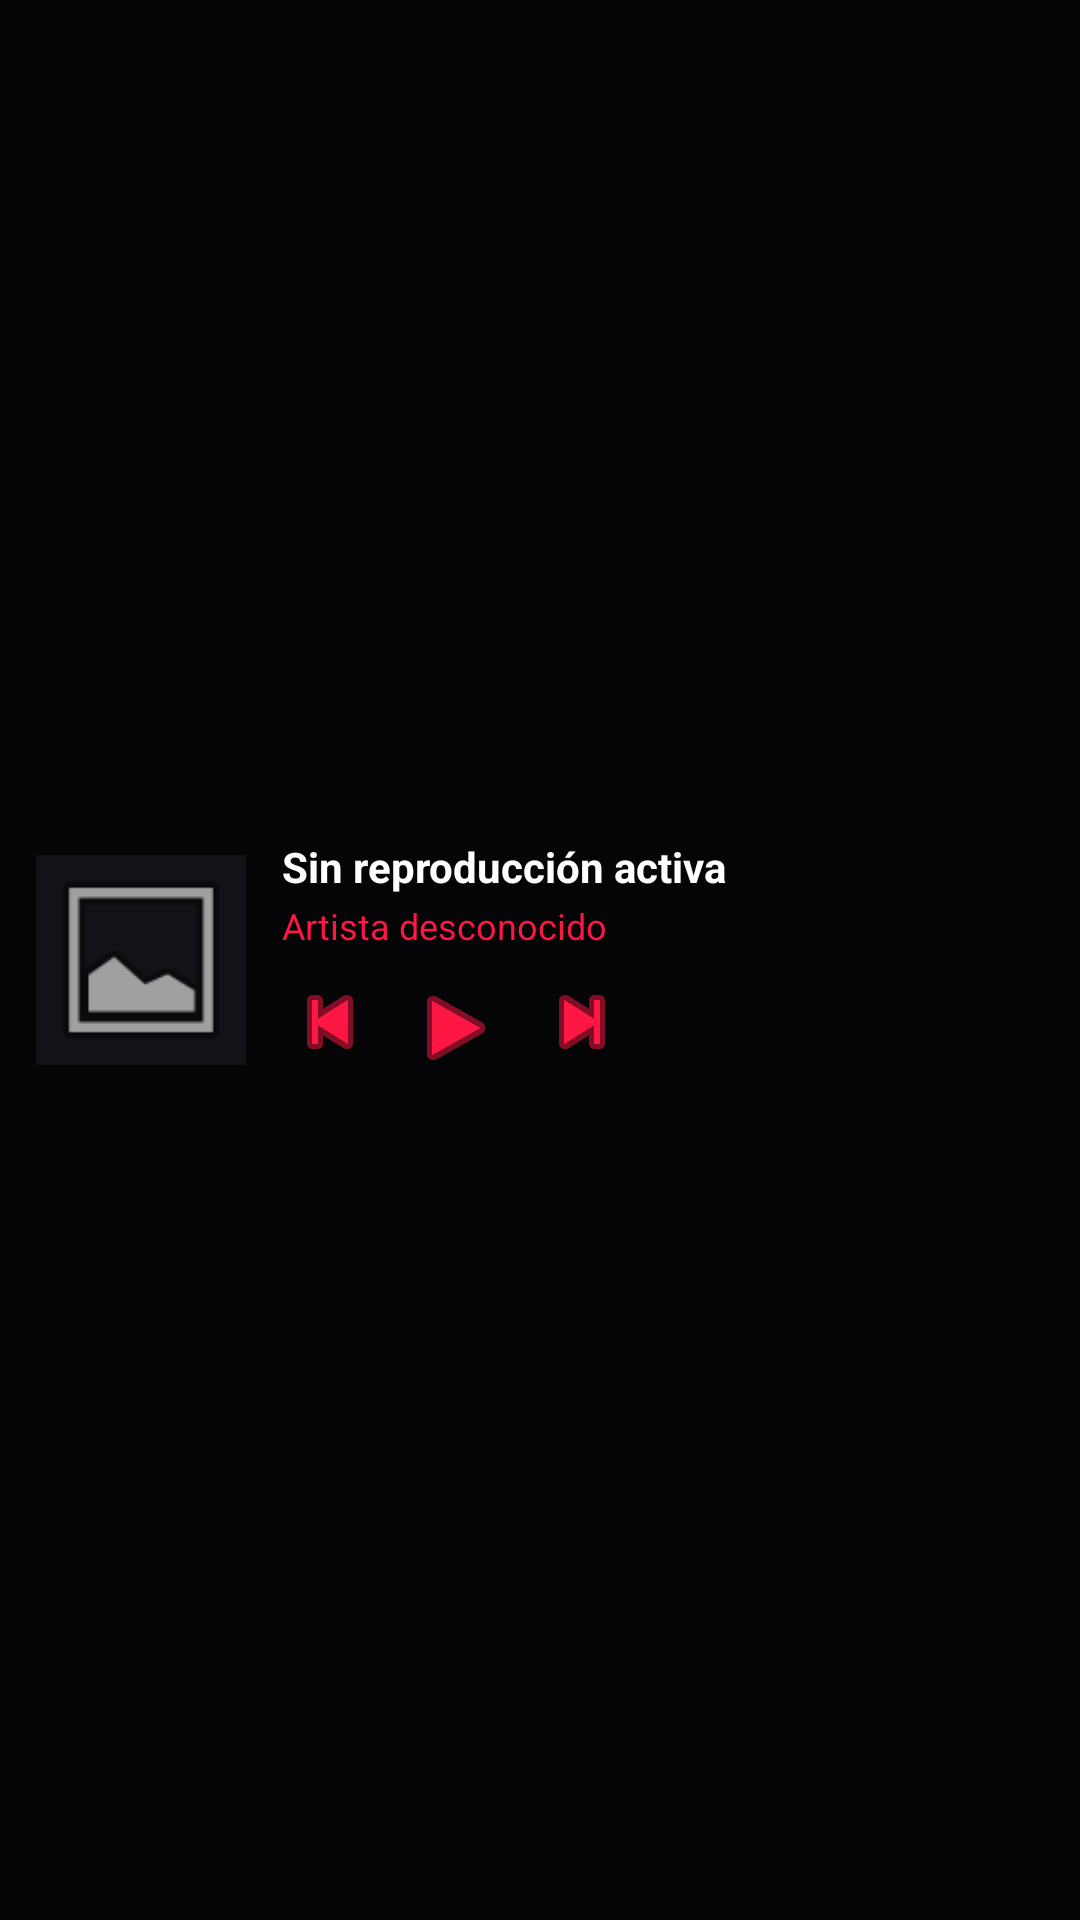

Screen size 1080w x 1920h. Icon name, then its box in pixels as (x1, y1, x2, y2):
Anterior: (307, 995, 353, 1049)
Carátula: (68, 887, 214, 1033)
Reproducir o Pausar: (427, 996, 485, 1060)
Siguiente: (559, 995, 605, 1049)
